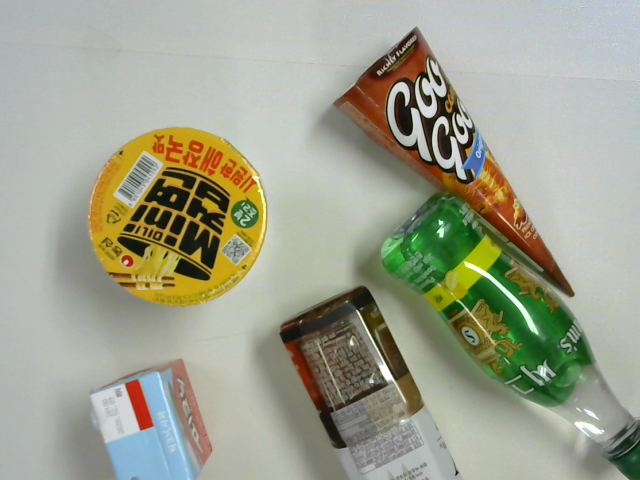GooGoo_Cone_CVS: (333, 27, 581, 300)
Hejangmini: (85, 118, 267, 304)
Picnic_Apple: (88, 355, 217, 480)
Post-meal_recipe_W_tea_500ml: (286, 288, 472, 480)
Seagram_Lemon_Carbonated_Water: (380, 189, 640, 479)
